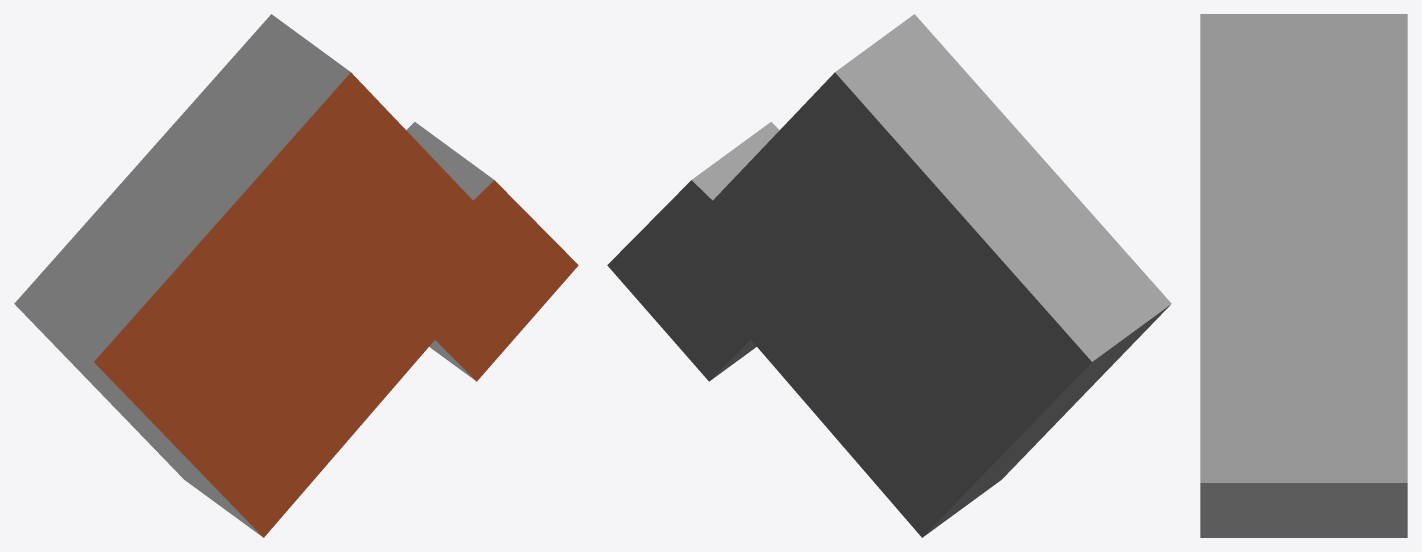
File: construction_6742_assumed_A_Casa_h6m.obj
3 views of the same model, side by side, from view 1: azimuth 30°, elevation 25°; view 2: azimuth 150°, elevation 25°; view 3: azimuth 270°, elevation 25° (orthographic). The views are drawn at different scales.
Parts seen in each view (by area): view 1: construction_6742_assumed_A_Casa; view 2: construction_6742_assumed_A_Casa; view 3: construction_6742_assumed_A_Casa.
Part boxes in pixels (<box>): construction_6742_assumed_A_Casa: <box>14,14,578,537</box>; construction_6742_assumed_A_Casa: <box>607,14,1171,537</box>; construction_6742_assumed_A_Casa: <box>1200,14,1407,537</box>.
Bounding box in the file's own units: 21.1 × 18.48 × 6.
